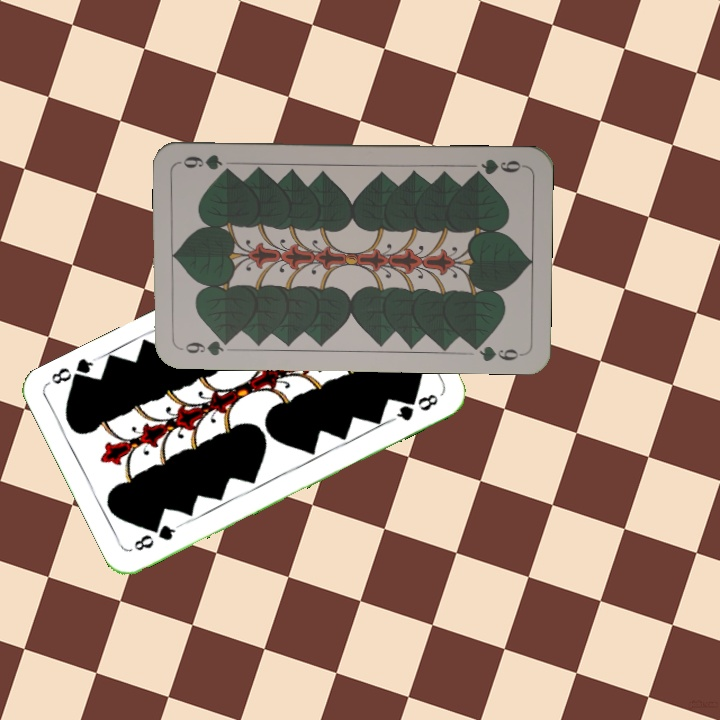G8: (129, 520, 182, 554)
G9: (468, 154, 527, 179), (175, 335, 234, 359)
